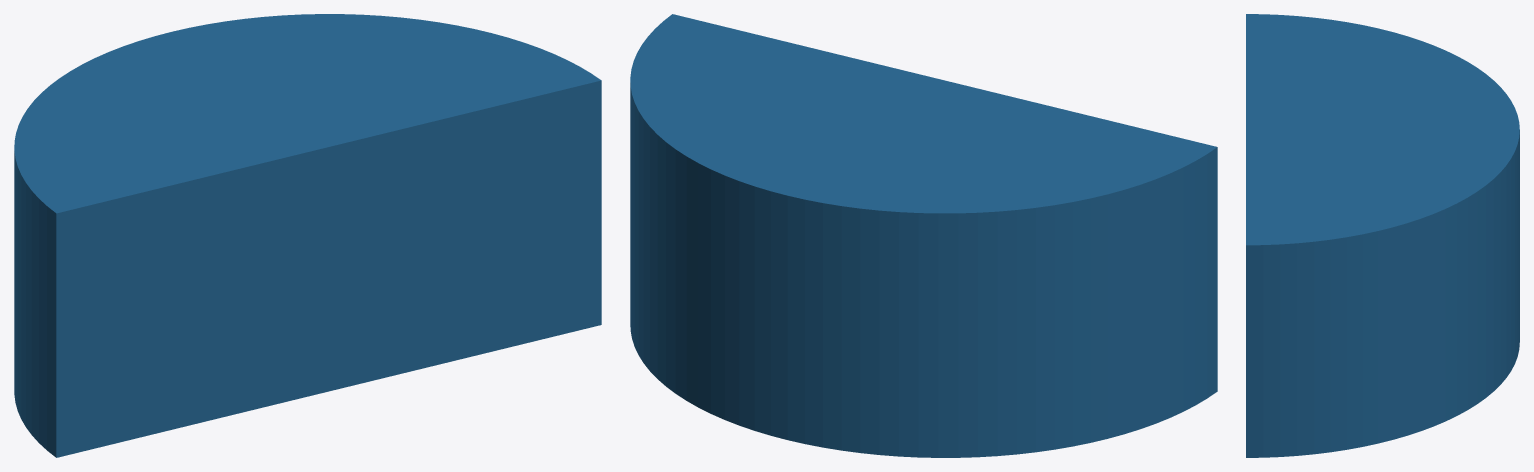
Rendered from BigHemiB.fbx.
3 renders of one model, left to right at view 1: azimuth 30°, elevation 25°; view 2: azimuth 150°, elevation 25°; view 3: azimuth 270°, elevation 25°, orthographic. The views are drawn at different scales.
Parts seen in each view (by area): view 1: BigHemiB; view 2: BigHemiB; view 3: BigHemiB.
Boxes of the visible parts, x1,y1,x2,y2 form: BigHemiB: (14, 14, 601, 457); BigHemiB: (630, 14, 1217, 457); BigHemiB: (1246, 14, 1519, 457).
Size of the model in its own units: 1400 by 600 by 700.
